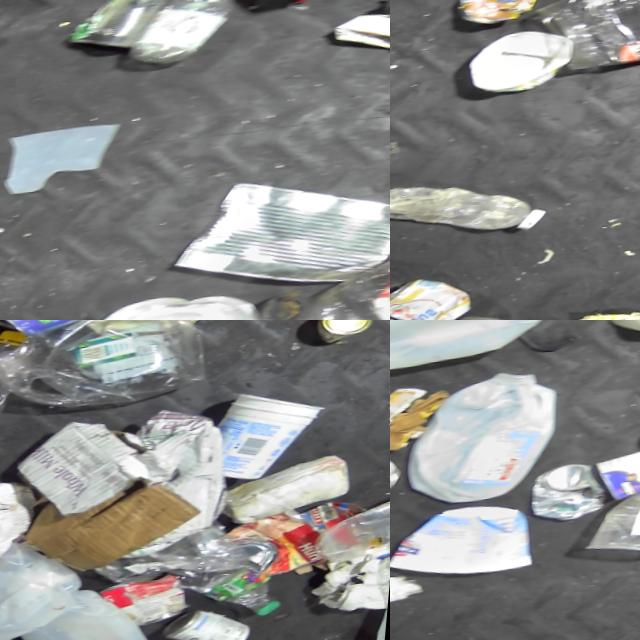can: (173, 166, 390, 304), (104, 571, 201, 632), (64, 0, 168, 55), (535, 462, 617, 526), (390, 273, 484, 320), (168, 606, 264, 640), (597, 439, 640, 505), (459, 0, 550, 29), (239, 539, 290, 578), (0, 320, 94, 340), (317, 320, 379, 349)
milk_jug: (404, 368, 570, 510), (0, 535, 99, 640), (390, 320, 559, 378), (23, 582, 173, 640), (390, 544, 437, 640)
non_white_jug: (0, 320, 216, 421), (0, 478, 47, 580), (73, 320, 216, 342)
plastic_bottle: (390, 171, 558, 249), (278, 240, 390, 320), (124, 0, 248, 70), (193, 569, 294, 627)
